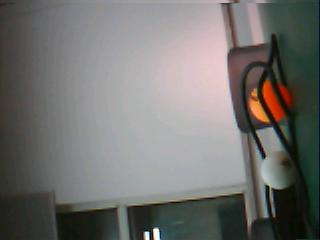oball: (249, 80, 291, 124)
